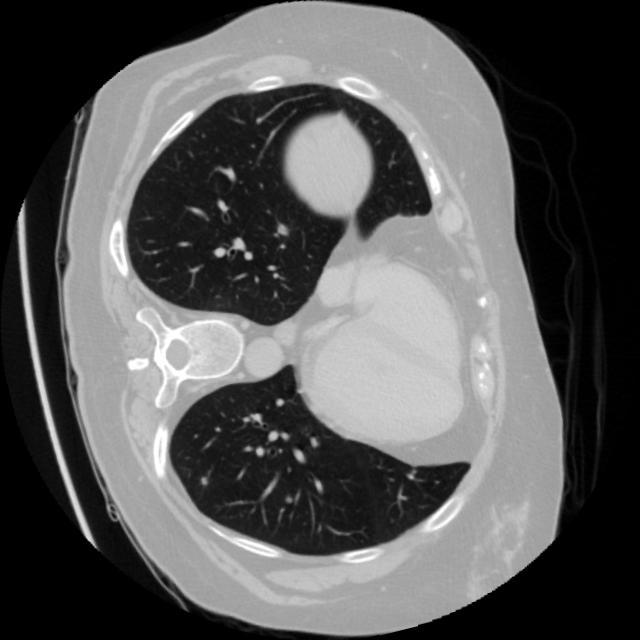nodule: (266, 210, 300, 244)
